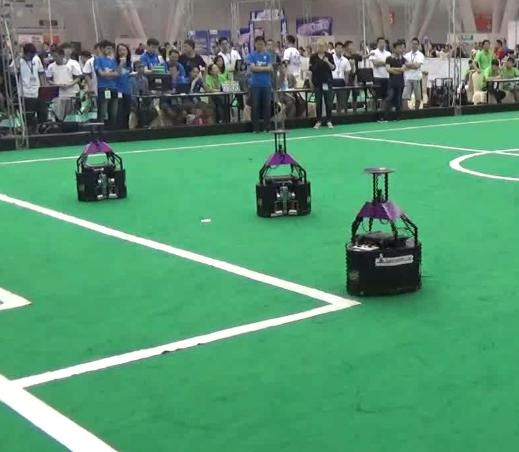robot: (341, 166, 426, 301), (250, 128, 317, 222), (69, 121, 129, 206)
